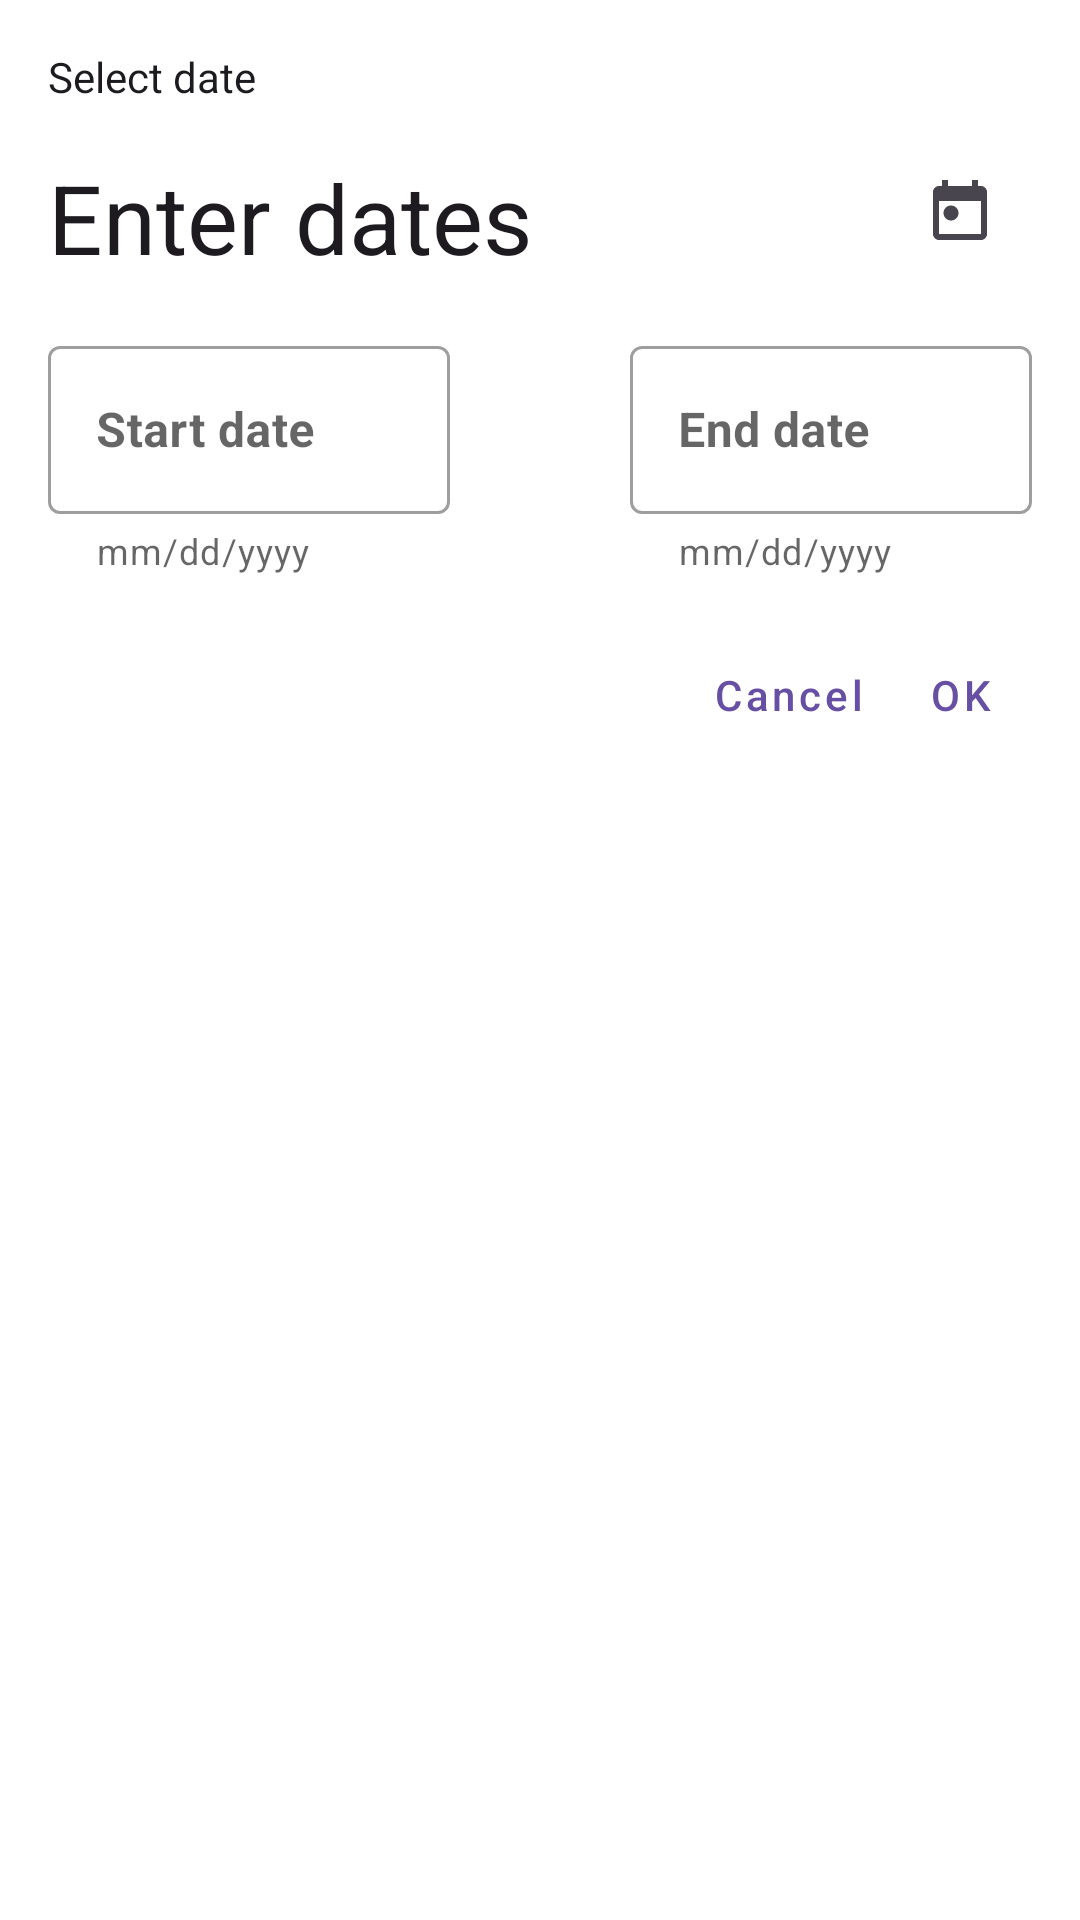

Named icons in this screenshot (1080 × 1920) and their centers, [x,y]:
Select dates: [960,210]
